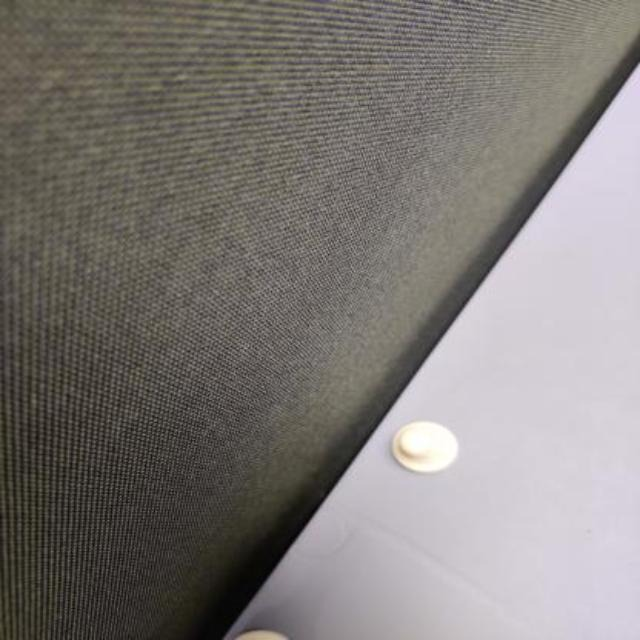white-pawn: (391, 418, 457, 472)
